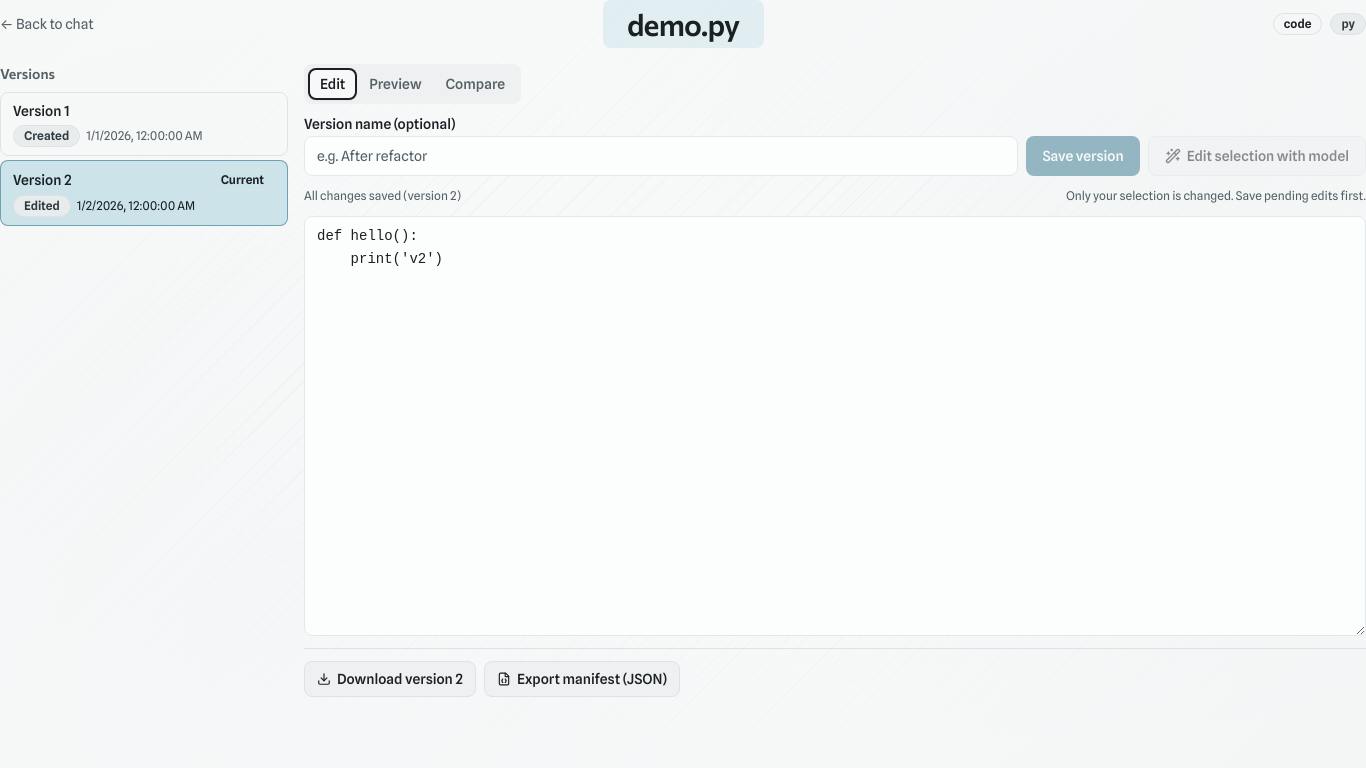
Test: CanvasPage version conflict › restore conflicts show a reload-only banner (no force escape hatch)
Expected: the text box named "Canvas content editor" is shown, [304, 216, 1365, 636]
Click the button with test id "canvas-version-button".
click(38, 111)  # box [0, 92, 288, 156]
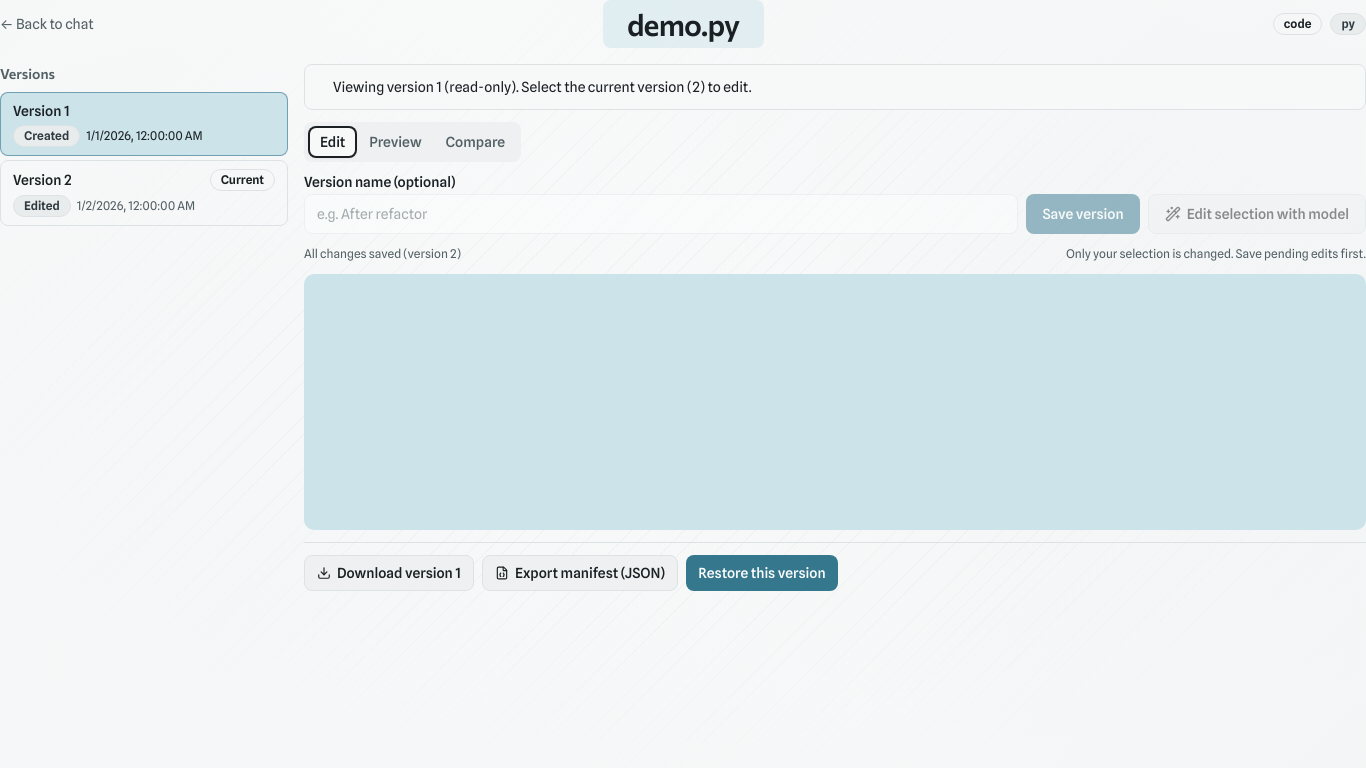
Result: the text with test id "canvas-readonly-notice" shows "Viewing version 1" at [333, 79, 752, 95]
Click the button with test id "canvas-restore-button".
click(762, 573)  # box [686, 555, 838, 591]
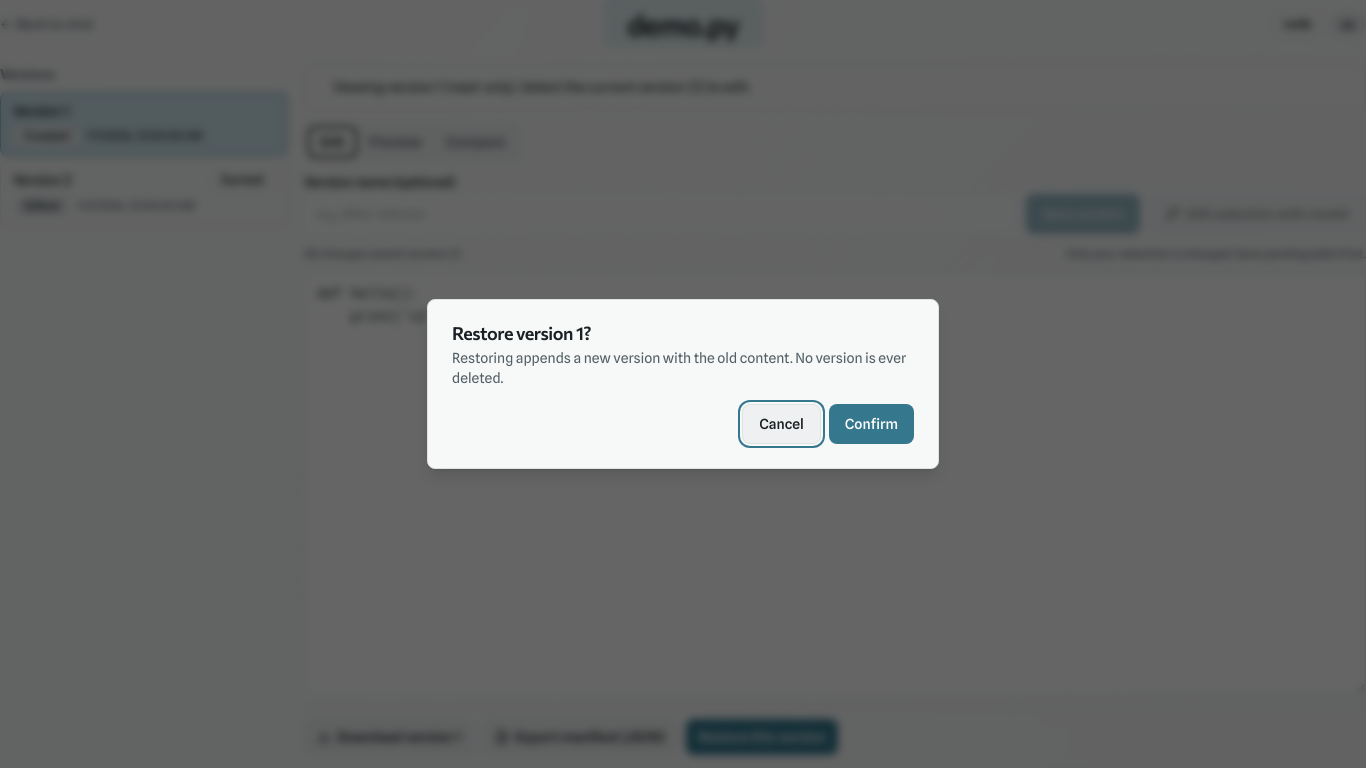
Click the button "Confirm".
click(871, 424)  # box [829, 404, 914, 444]
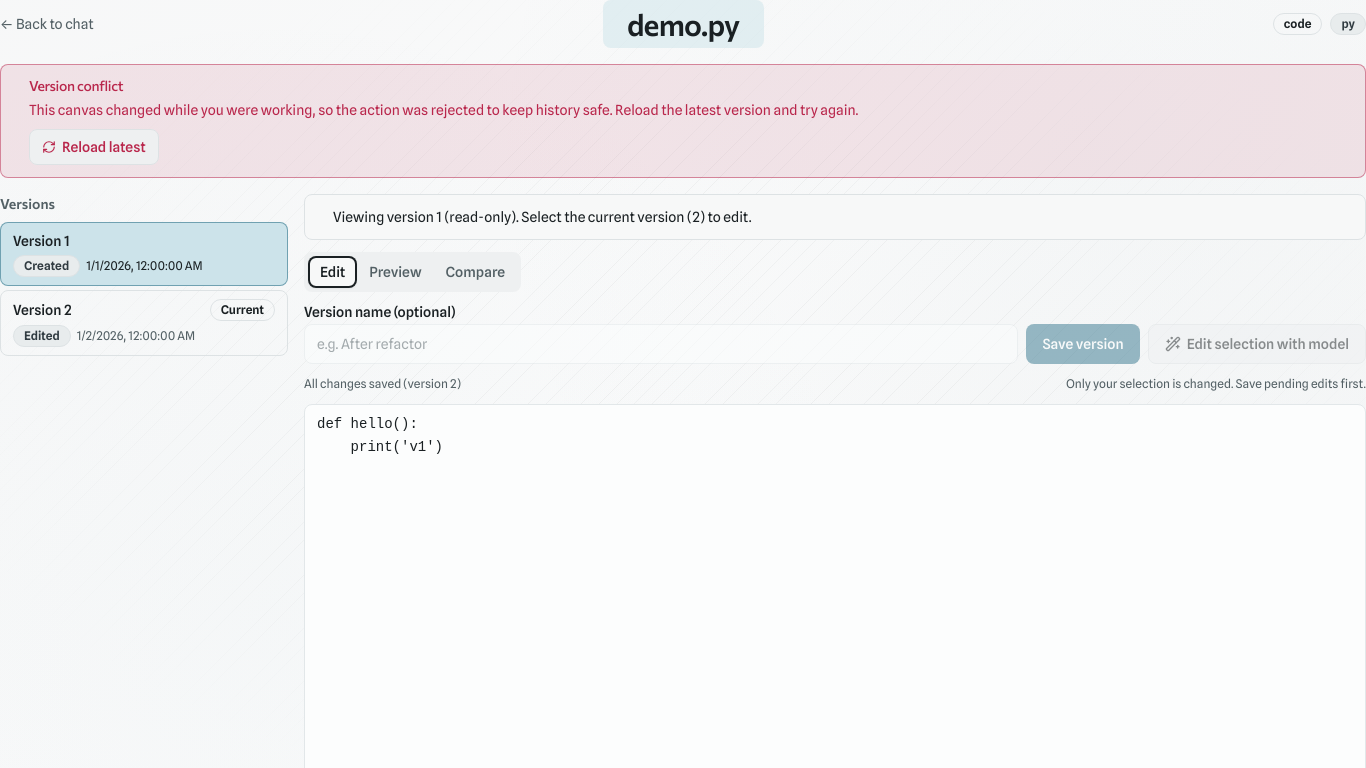
Result: the message with test id "canvas-conflict-banner" shows "changed while you were working" at [29, 102, 858, 118]
